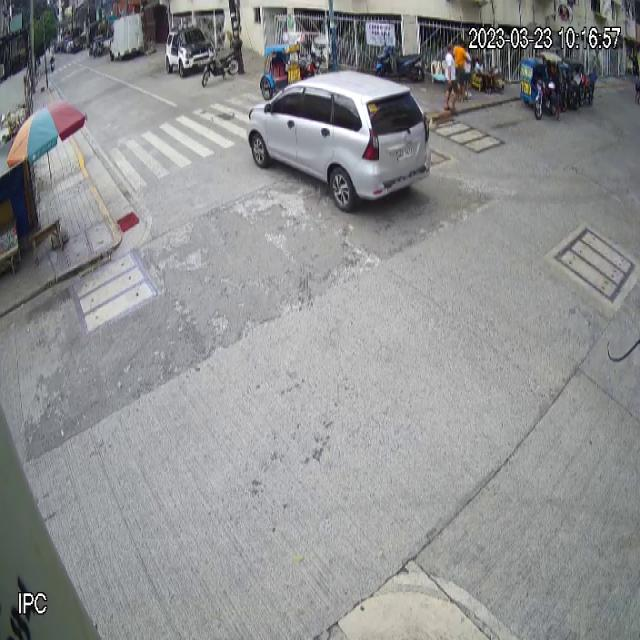Car: (246, 68, 432, 214)
